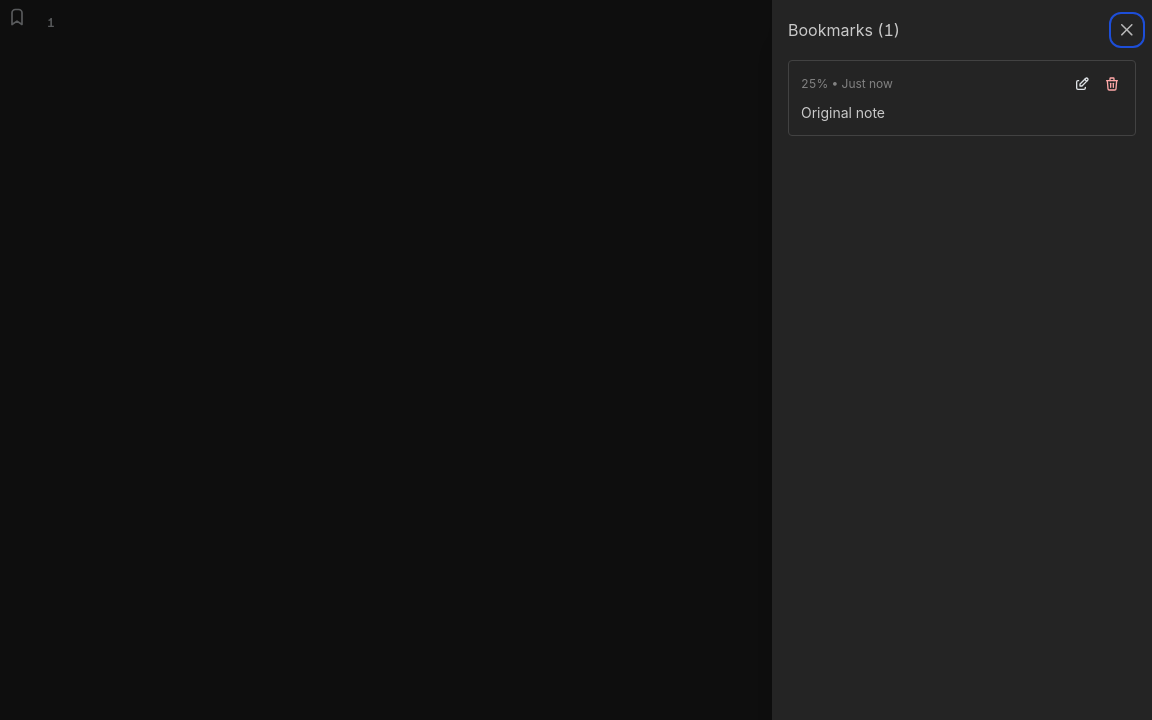
Test case: EpubBookmarks › note editing › should discard changes when clicking cancel
This screenshot has width=1152, height=720.
Click the button named "Edit note" at (1082, 84), box [1071,73,1093,95]
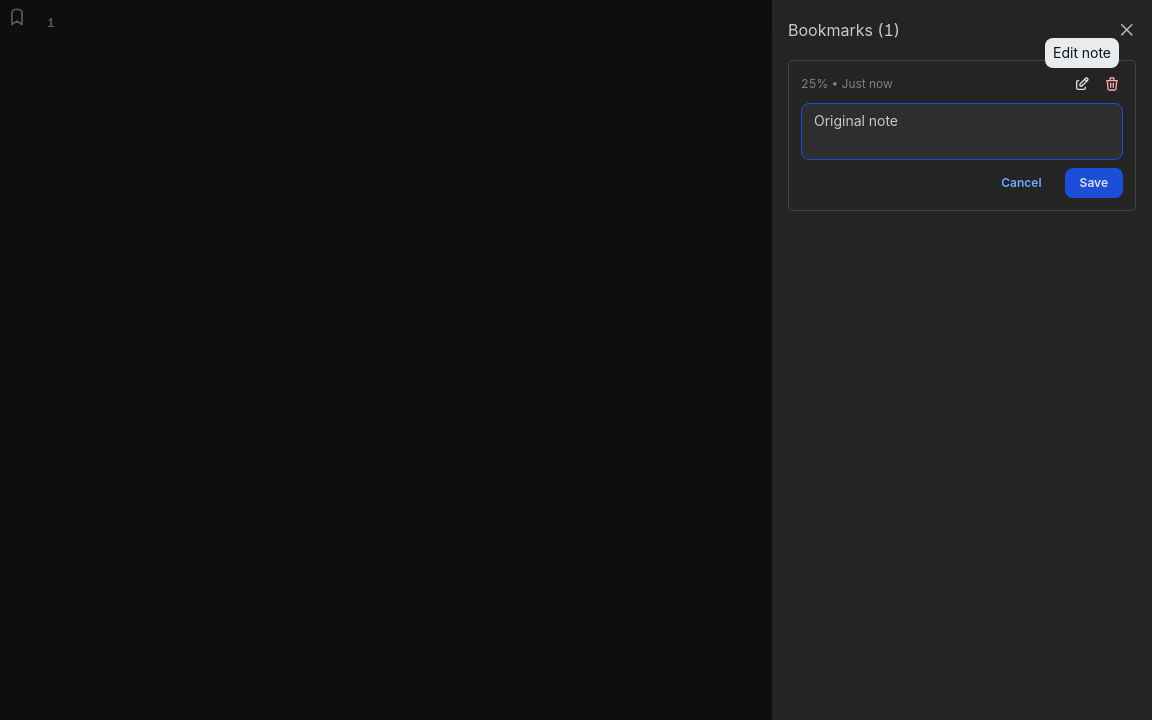
Replace the text in the text box with "Changed note" at (962, 132), box [801,103,1123,160]
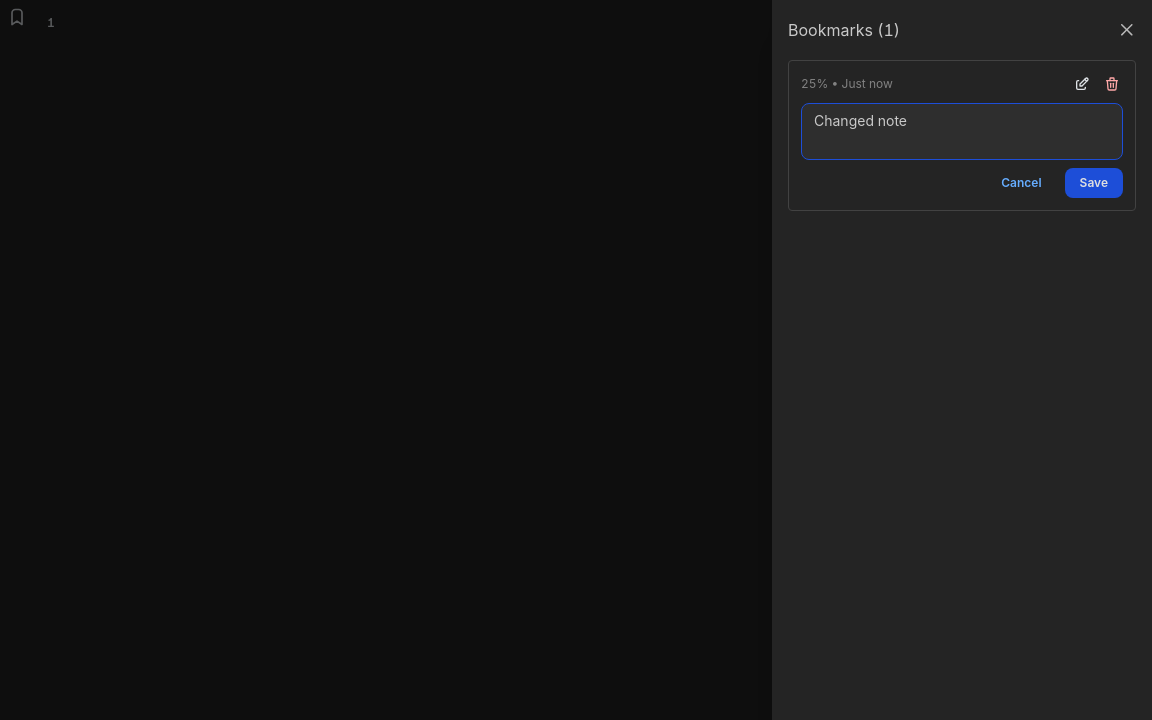
Click the button "Cancel" at (1021, 183), box [986,168,1057,198]
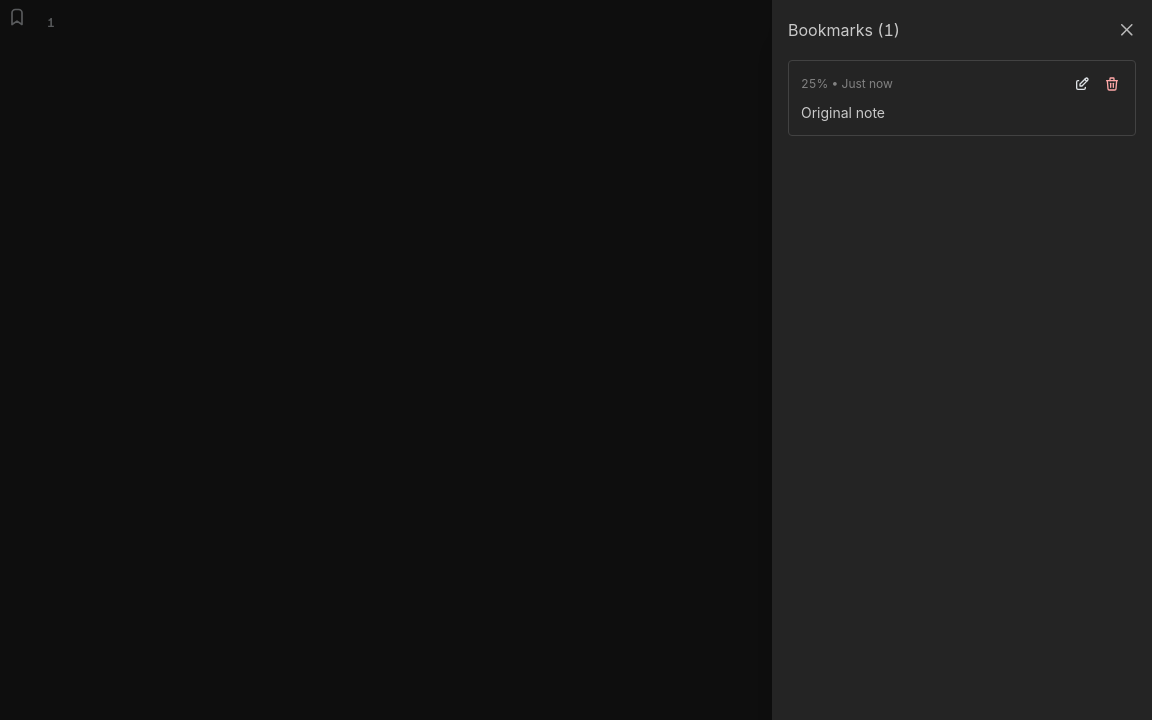
Now the text "Original note" is shown, box [801,104,885,121]
